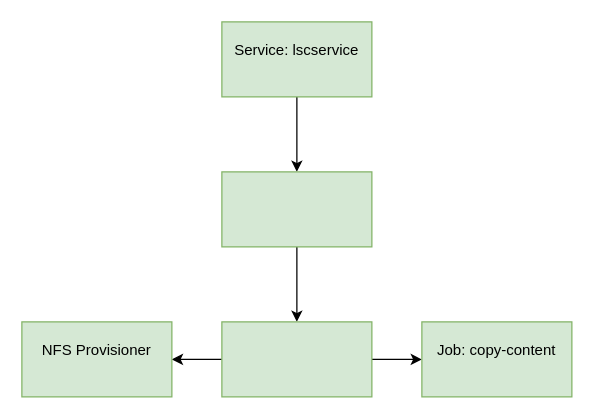
Image size: 594x419. Some labels were removed from this diagram. The box of each missing label's shape, as (x1, y1, x2, y2) in pixels:
Deployment: lscserver: (221, 171, 372, 247)
PVC: lscpvc: (221, 321, 372, 397)
